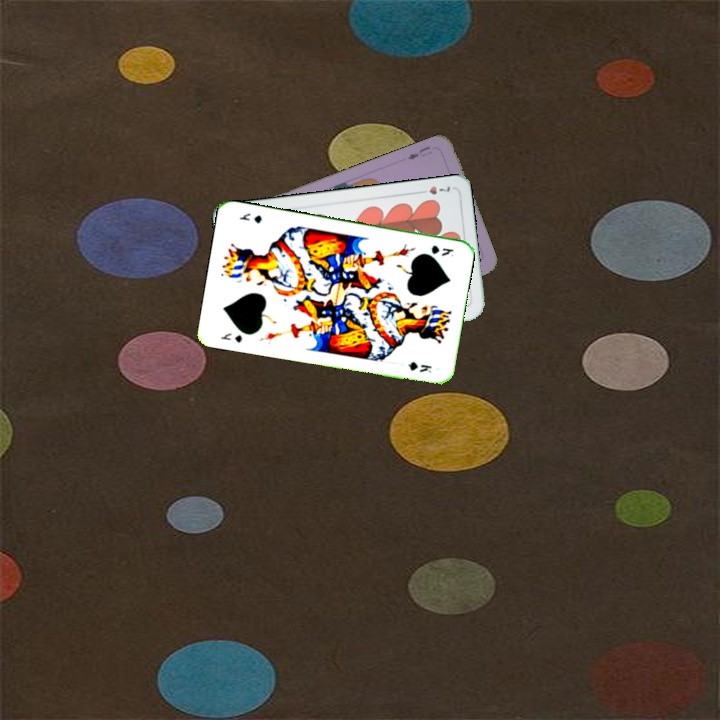EU: (403, 142, 435, 162)
GK: (427, 241, 456, 258), (216, 329, 245, 345)
H7: (414, 182, 453, 197)
